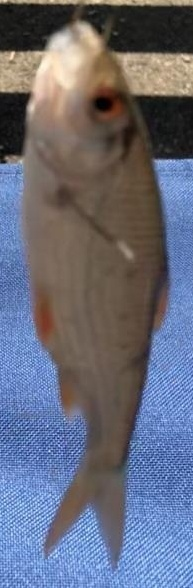Rutilus rutilus: (20, 20, 173, 568)
